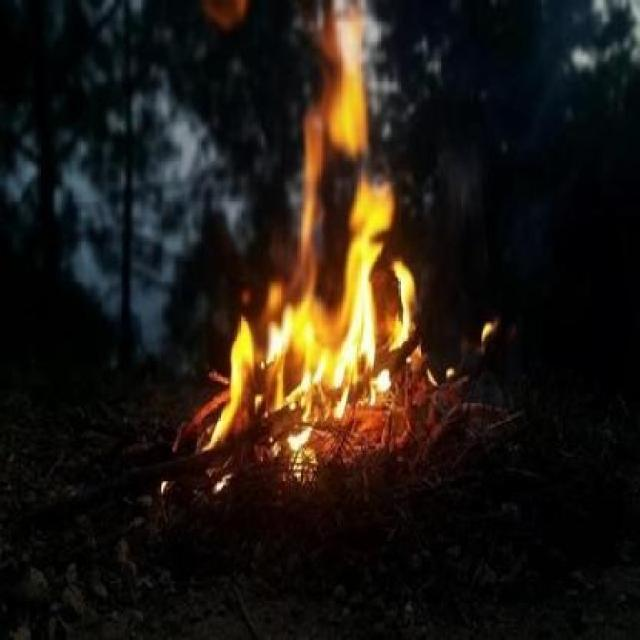Fire: (190, 2, 423, 496)
